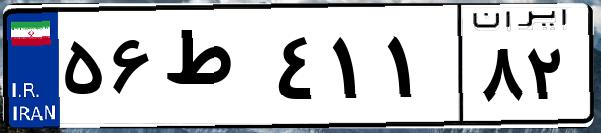1: (385, 28, 445, 110), (330, 28, 385, 110)
2: (525, 38, 570, 115)
4: (270, 28, 330, 110)
5: (57, 26, 110, 100)
6: (110, 28, 158, 98)
8: (475, 38, 525, 113)
ط: (158, 20, 270, 120)
